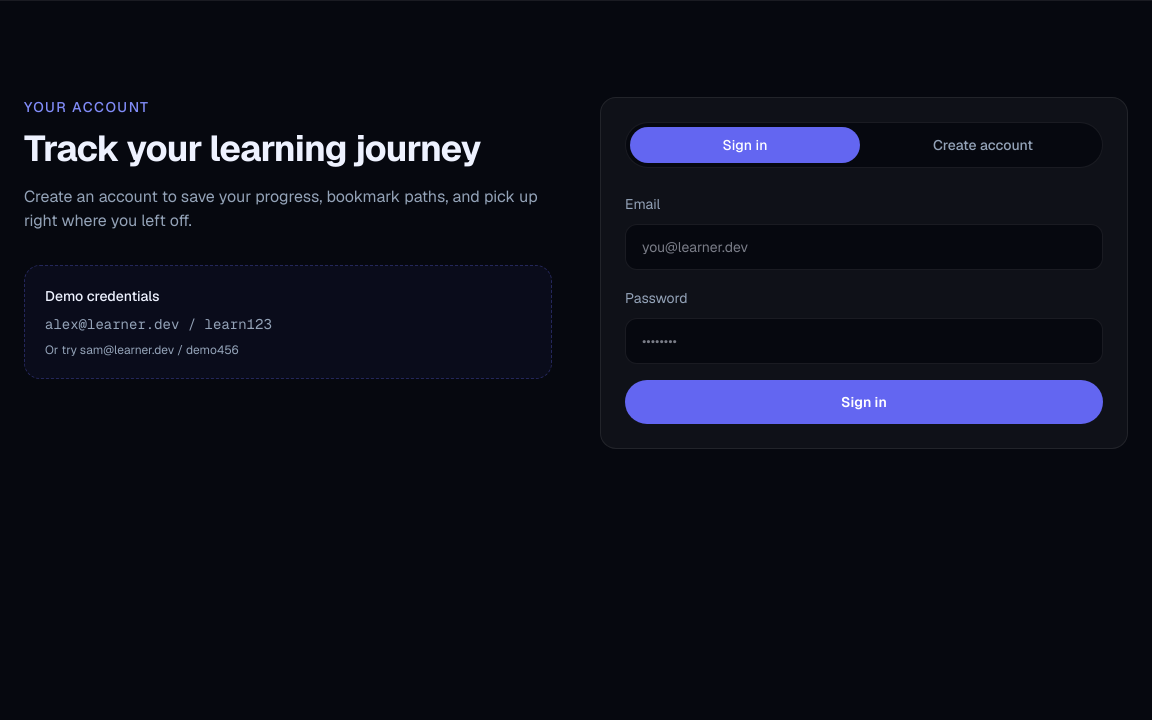
Test: Account › signs in with demo credentials and shows progress
Type "alex@learner.dev" into the field labelled "Email".
click(864, 247); type("alex@learner.dev")  # box 625,224 -> 1103,270
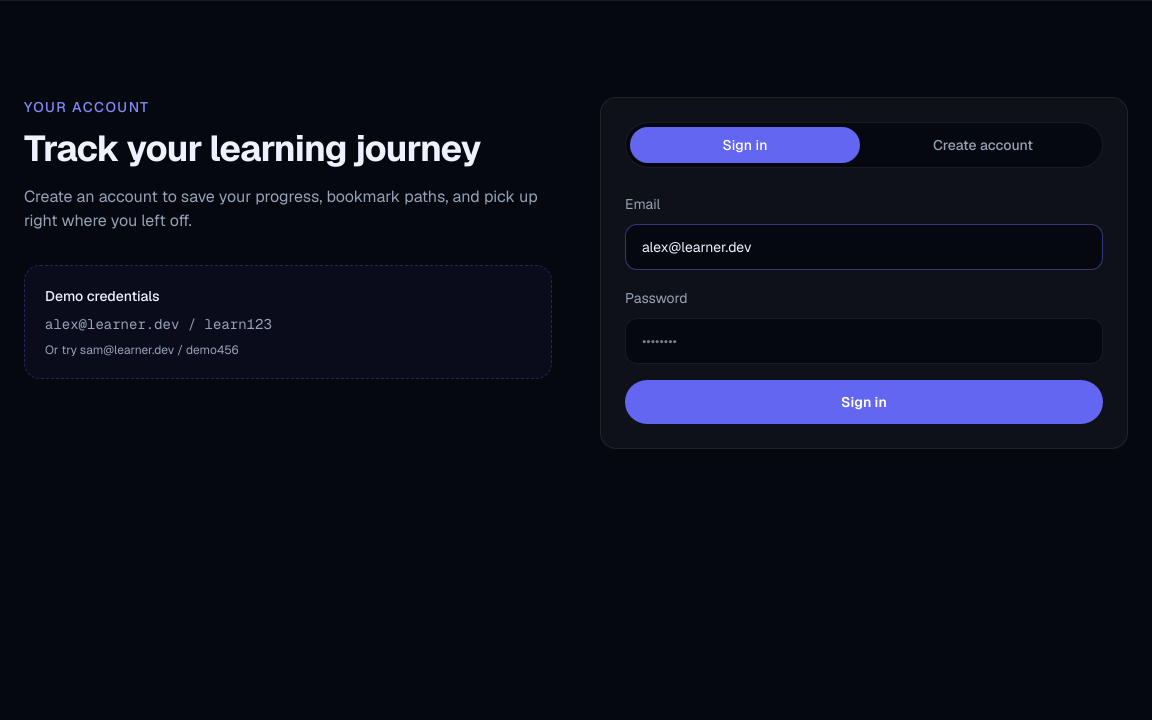
Type "learn123" into the password field labelled "Password".
click(864, 341); type("learn123")  # box 625,318 -> 1103,364
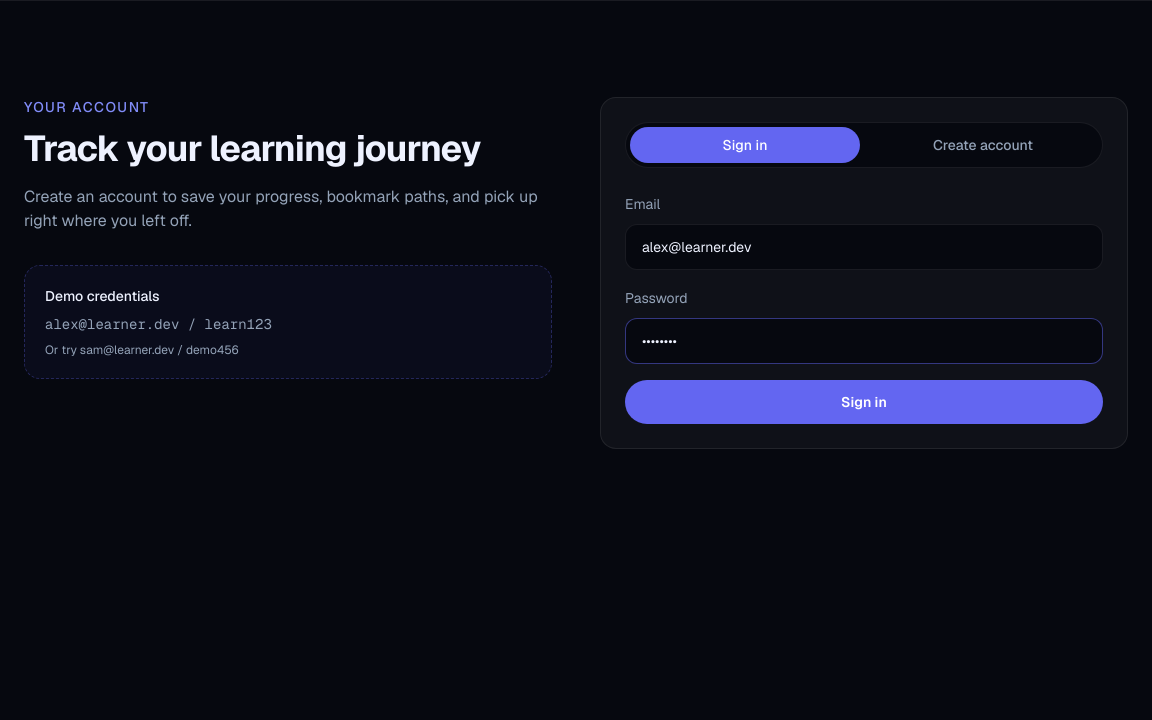
Click the button "Sign in" below "Password".
click(864, 402)  # box 625,380 -> 1103,424
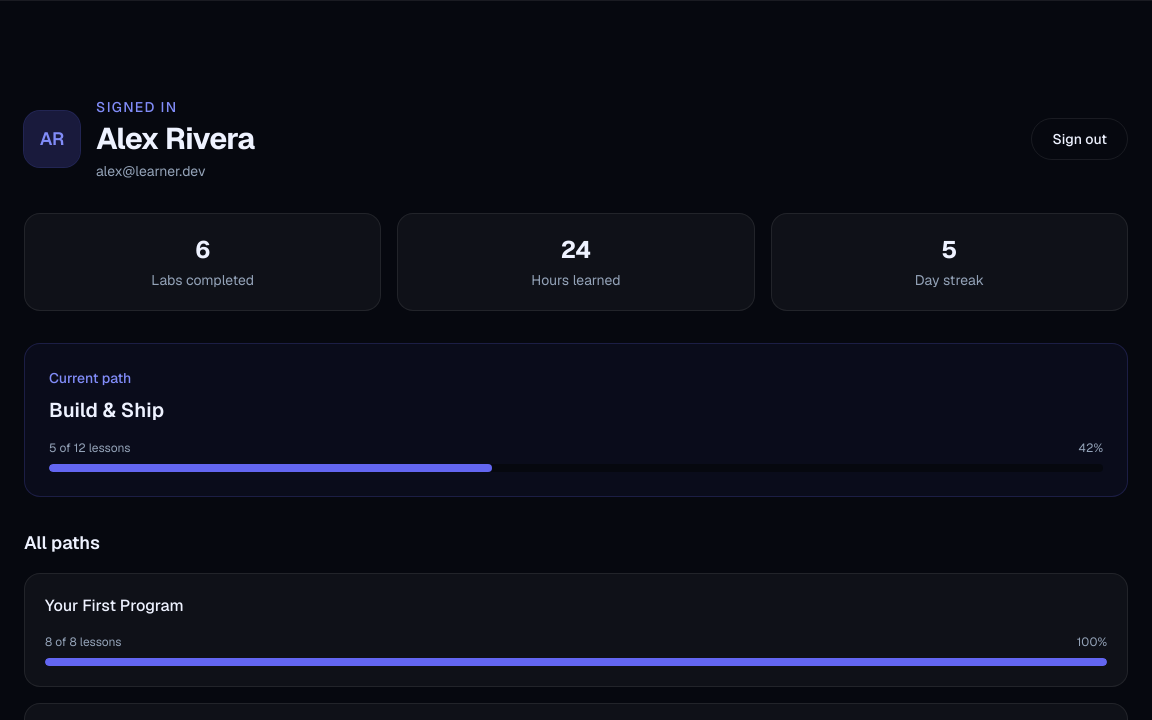
Check: the heading "Alex Rivera" is shown, box 96,121 -> 254,157
Check: the text "Current path" is shown, box 49,369 -> 131,387
Check: the heading "All paths" is shown, box 24,531 -> 100,554
